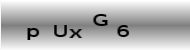6: (116, 24, 129, 38)
G: (92, 13, 109, 27)
U: (53, 24, 68, 38)
p: (26, 27, 40, 42)
x: (68, 28, 83, 39)
